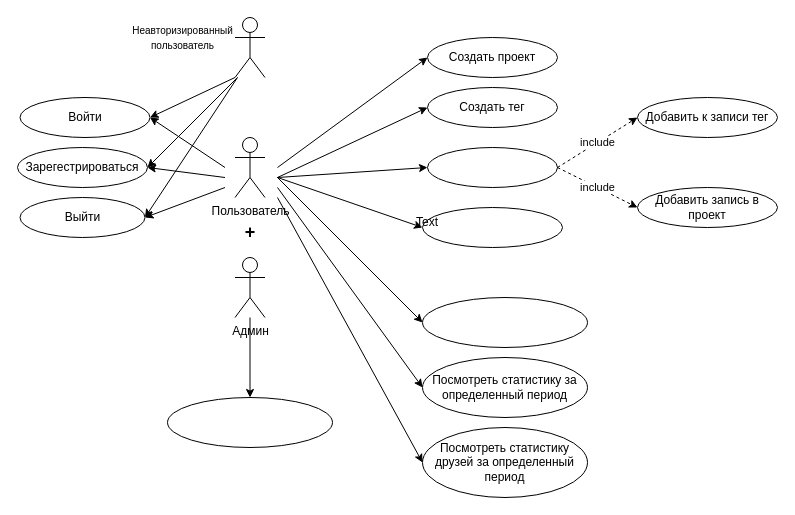
Some shapes in this 795 by 515 pixel diagram are drawn without their labels. Each missing label, with the box of its shape:
Добавить пользователя в друзья: (422, 296, 588, 348)
Посмотреть статистику приложения: (166, 396, 332, 448)
Поставить цель: (422, 206, 562, 248)
Создать запись: (426, 146, 558, 188)
